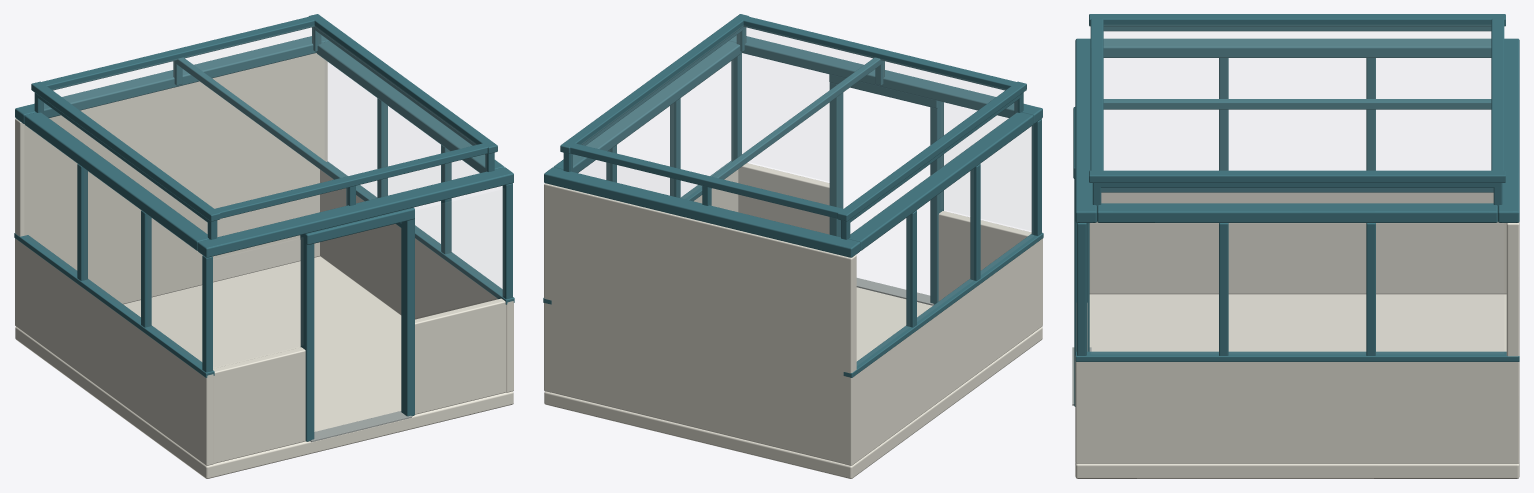
The model's file is optician-and-optical-lens-workshop-optician-and-optica-2c28f512__31667.glb.
The picture shows the model from 3 angles, left to right: view 1: azimuth 30°, elevation 25°; view 2: azimuth 150°, elevation 25°; view 3: azimuth 270°, elevation 25°; orthographic projection. The views are drawn at different scales.
Visible parts, largest first — view 1: optician-and-optical-lens-workshop-examination-room-shell; view 2: optician-and-optical-lens-workshop-examination-room-shell; view 3: optician-and-optical-lens-workshop-examination-room-shell.
Boxes of the visible parts, box(x1,y1,x2,y2) form: optician-and-optical-lens-workshop-examination-room-shell: box(14, 14, 514, 478); optician-and-optical-lens-workshop-examination-room-shell: box(543, 14, 1043, 478); optician-and-optical-lens-workshop-examination-room-shell: box(1072, 14, 1519, 478).
Bounding box in the file's own units: 3.81 × 3.04 × 4.13.
